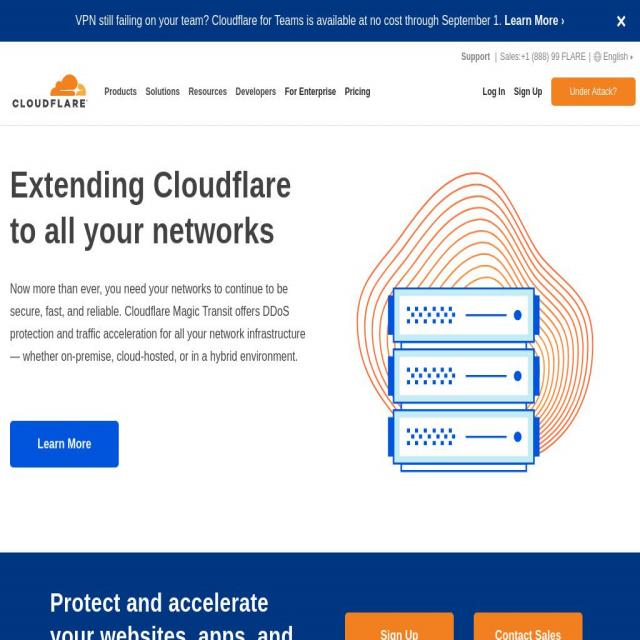language: (594, 48, 634, 65)
login-option: (473, 78, 508, 105)
navigation-links: (101, 77, 376, 118)
sign-up-option: (512, 82, 544, 105)
